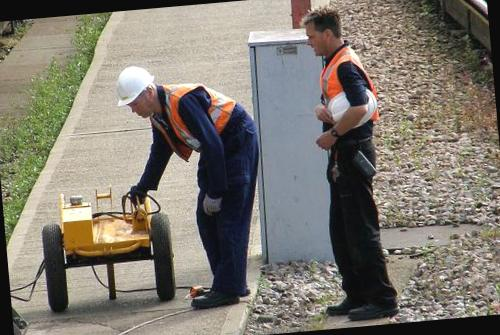no_helmet: (294, 1, 350, 59)
